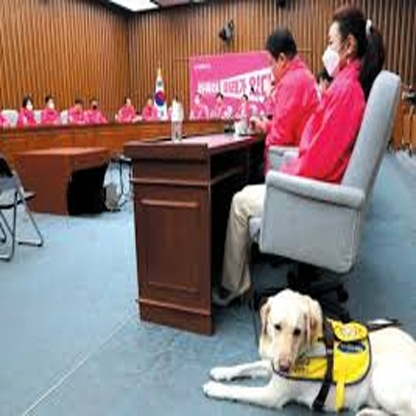guide-dog: (219, 280, 416, 416)
